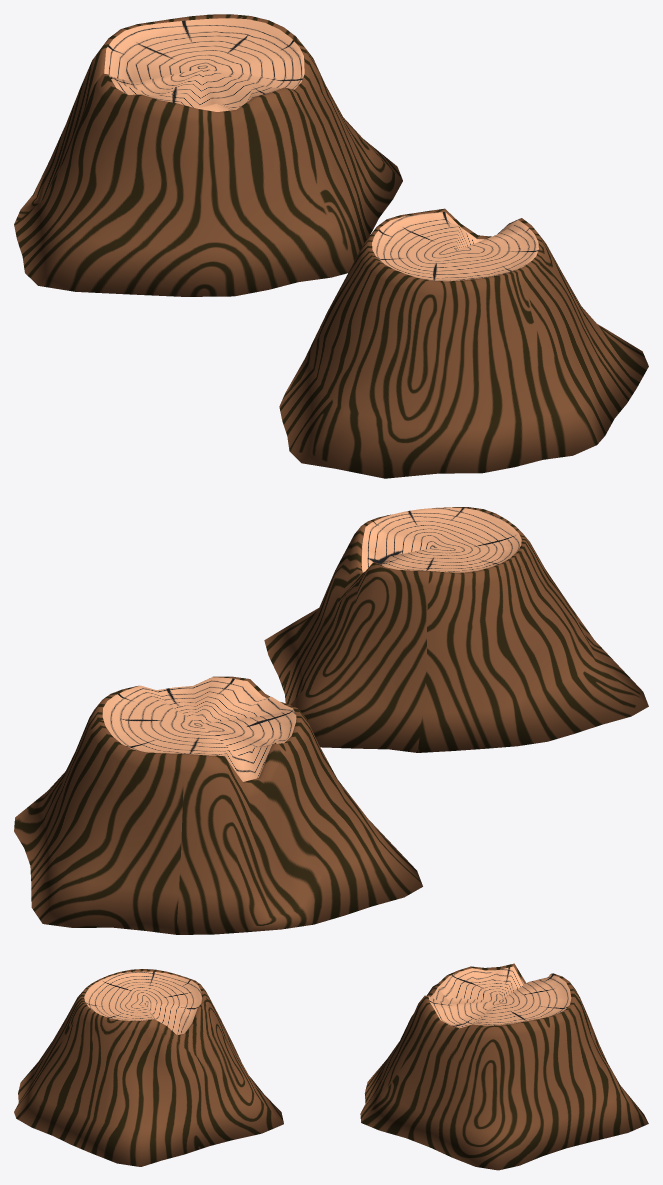
Rendered from Stump 2.fbx.
3 renders of one model, top to bottom at view 1: azimuth 30°, elevation 25°; view 2: azimuth 150°, elevation 25°; view 3: azimuth 270°, elevation 25°, orthographic. The views are drawn at different scales.
Parts seen in each view (by area): view 1: Log1, Log2; view 2: Log1, Log2; view 3: Log1, Log2.
Boxes of the visible parts, box(x1,y1,x2,y2) form: Log1: box(14, 14, 402, 296); Log2: box(279, 208, 648, 478); Log1: box(14, 676, 422, 934); Log2: box(264, 507, 648, 752); Log1: box(360, 963, 648, 1170); Log2: box(14, 969, 283, 1166).
Size of the model in its own units: 270 by 106 by 534.
